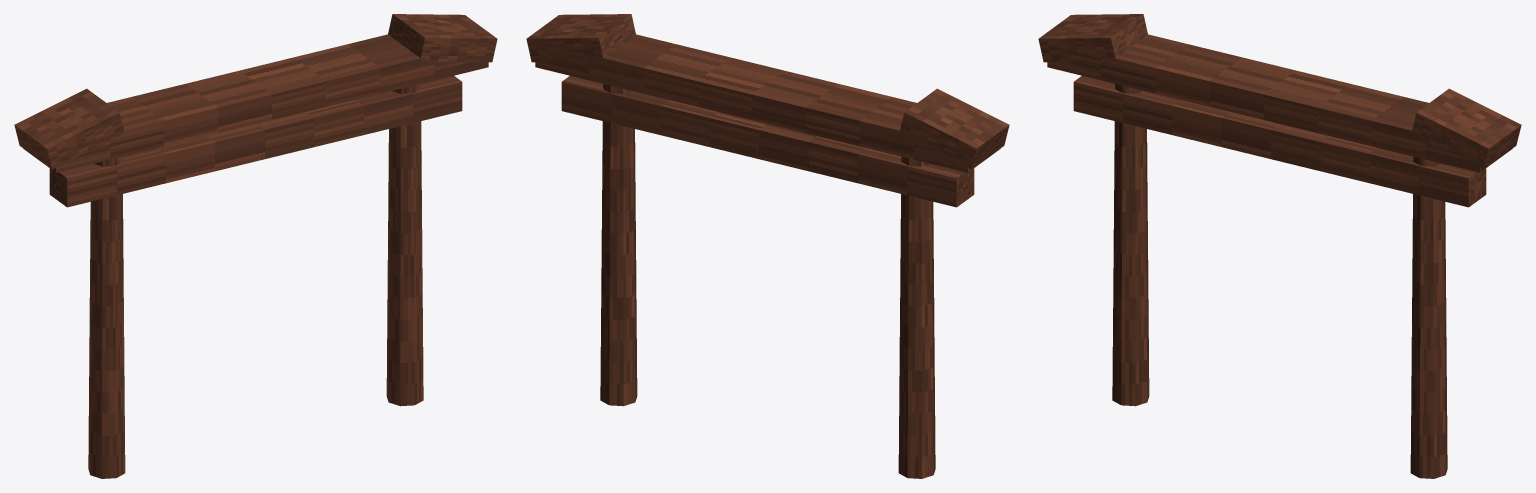
File: gate_01.glb
The picture shows the model from 3 angles, left to right: view 1: azimuth 30°, elevation 25°; view 2: azimuth 150°, elevation 25°; view 3: azimuth 330°, elevation 25°; orthographic projection.
Parts seen in each view (by area): view 1: Roof, Lintel, Pillar.001, Pillar, RaisedEave, RaisedEave.001; view 2: Roof, Lintel, Pillar.001, Pillar, RaisedEave, RaisedEave.001; view 3: Roof, Lintel, Pillar, Pillar.001, RaisedEave.001, RaisedEave.
Boxes of the visible parts, box(x1,y1,x2,y2) form: Roof: box(23, 34, 488, 172); Lintel: box(49, 76, 462, 207); Pillar.001: box(386, 84, 423, 406); Pillar: box(88, 156, 125, 478); RaisedEave: box(14, 88, 124, 169); RaisedEave.001: box(388, 14, 497, 62); Roof: box(535, 34, 1000, 172); Lintel: box(561, 76, 974, 207); Pillar.001: box(600, 84, 637, 406); Pillar: box(898, 156, 935, 478); RaisedEave: box(899, 88, 1009, 169); RaisedEave.001: box(526, 14, 635, 62); Roof: box(1047, 34, 1512, 172); Lintel: box(1073, 76, 1486, 207); Pillar: box(1112, 84, 1149, 406); Pillar.001: box(1410, 156, 1447, 478); RaisedEave.001: box(1411, 88, 1521, 169); RaisedEave: box(1038, 14, 1147, 62).
Size of the model in its own units: 5.17 by 4.07 by 0.65.
1 material, 1 textured.
